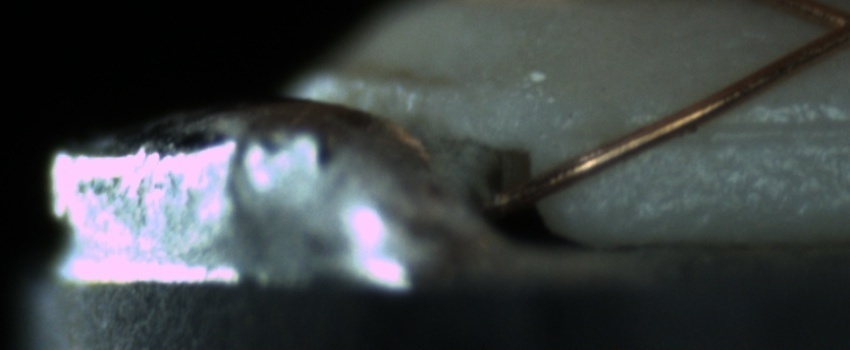CL: (801, 1, 850, 59)
DL: (619, 94, 848, 163)
